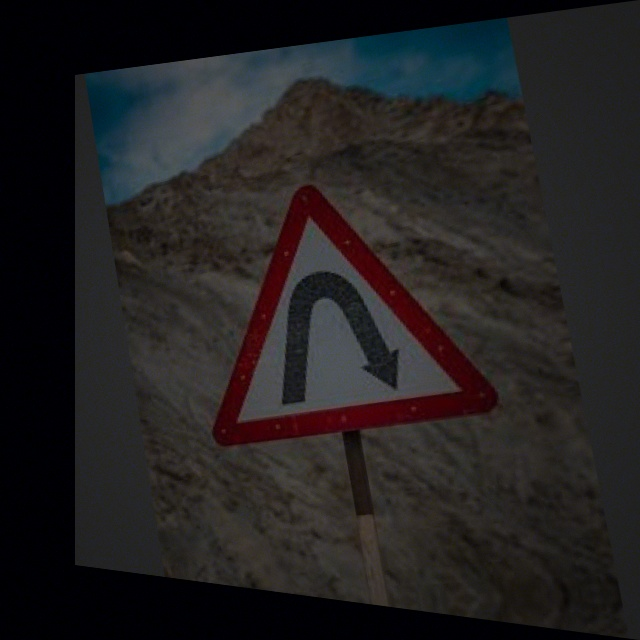Right_Hair_Pin_Bend: (194, 152, 497, 457)
